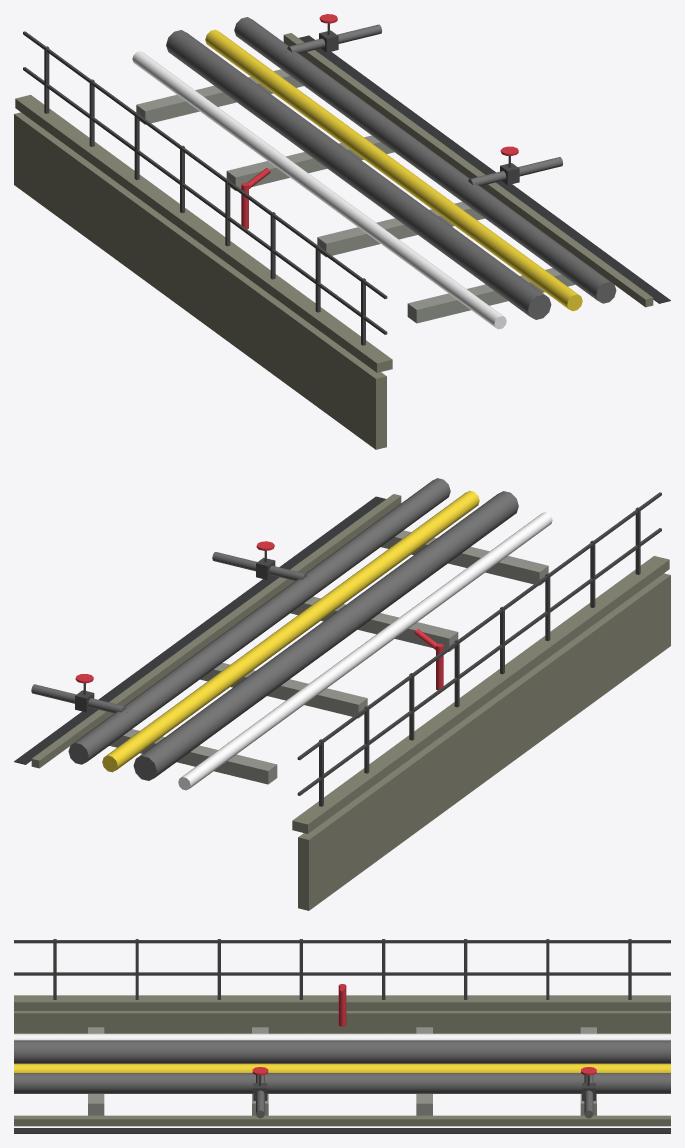
The model's file is platform_wall.fbx.
The picture shows the model from 3 angles, top to bottom: view 1: azimuth 30°, elevation 25°; view 2: azimuth 150°, elevation 25°; view 3: azimuth 270°, elevation 25°; orthographic projection. The views are drawn at different scales.
Parts seen in each view (by area): view 1: p465_platform_wall; view 2: p465_platform_wall; view 3: p465_platform_wall.
Part boxes in pixels (bbox=[...]): p465_platform_wall: bbox=[14, 14, 670, 449]; p465_platform_wall: bbox=[14, 478, 670, 910]; p465_platform_wall: bbox=[14, 939, 670, 1133].
Size of the model in its own units: 8.18 by 3.7 by 16.
